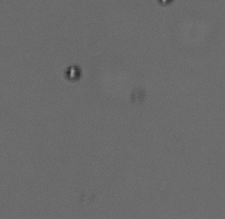Dead Cell: (63, 64, 83, 82), (155, 1, 175, 9)
